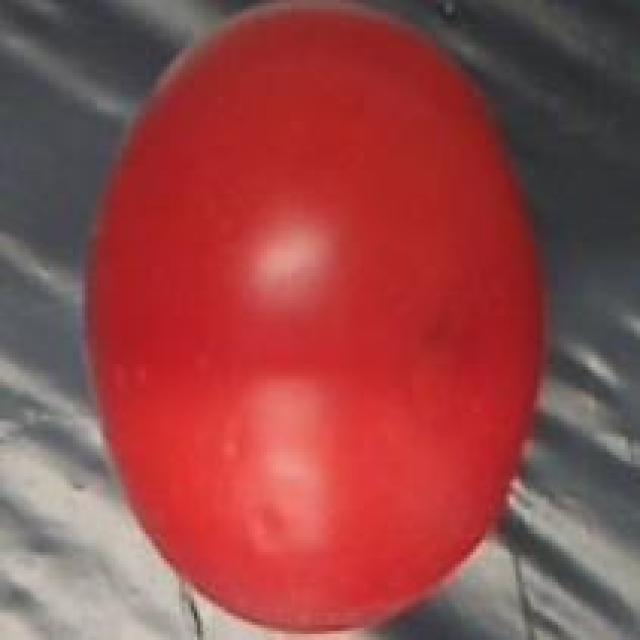overripe tomato: (73, 6, 561, 640)
